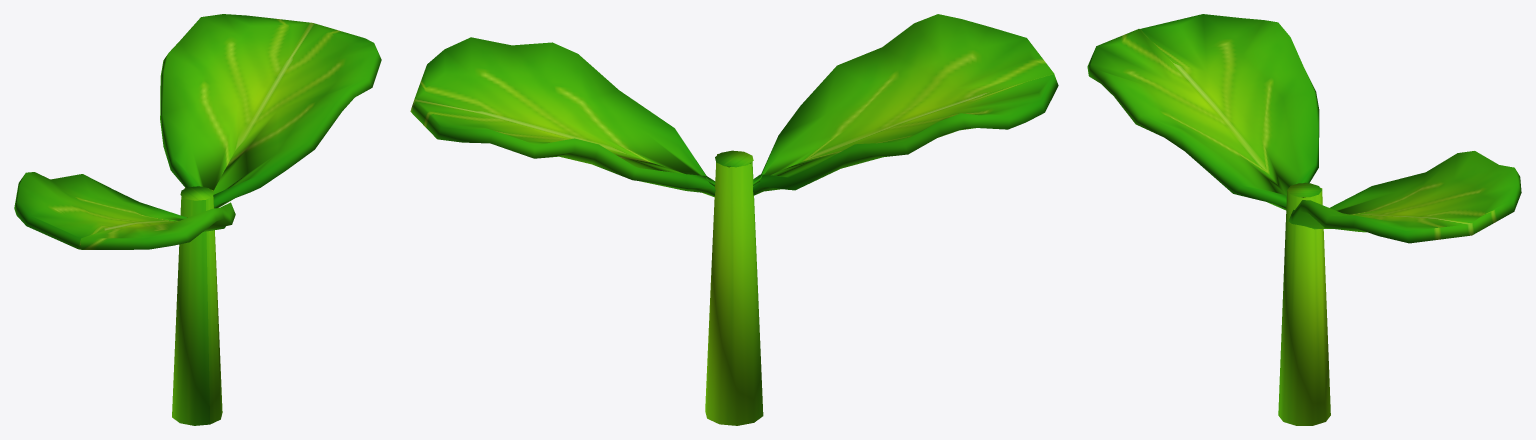
Rendered from NP_G03_Shared_Sprout_LOD1.fbx.
3 renders of one model, left to right at view 1: azimuth 30°, elevation 25°; view 2: azimuth 150°, elevation 25°; view 3: azimuth 270°, elevation 25°, orthographic. The views are drawn at different scales.
Visible parts, largest first — view 1: NP_G03_Shared_Sprout; view 2: NP_G03_Shared_Sprout; view 3: NP_G03_Shared_Sprout.
Boxes of the visible parts, x1,y1,x2,y2 form: NP_G03_Shared_Sprout: [14, 14, 381, 425]; NP_G03_Shared_Sprout: [410, 14, 1058, 425]; NP_G03_Shared_Sprout: [1087, 14, 1521, 425].
Bounding box in the file's own units: 26.5 × 17.08 × 22.28.
